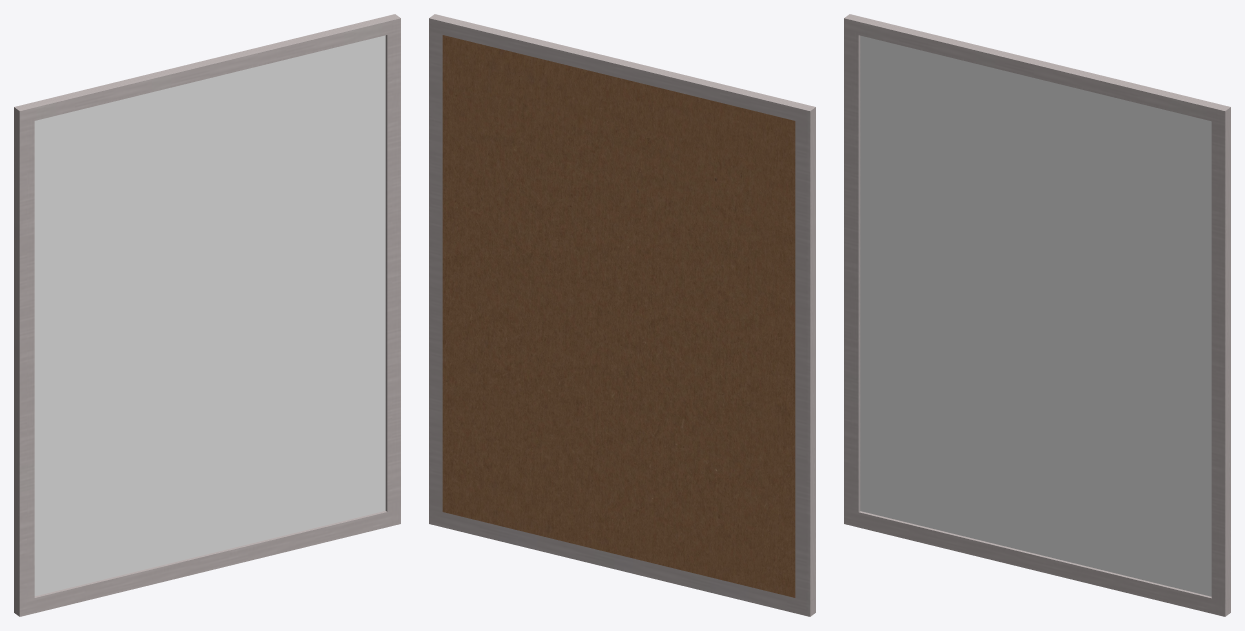
The model's file is stuff_in_my_room_whiteboard.glb.
The picture shows the model from 3 angles, left to right: view 1: azimuth 30°, elevation 25°; view 2: azimuth 150°, elevation 25°; view 3: azimuth 330°, elevation 25°; orthographic projection.
Parts seen in each view (by area): view 1: polySurface2, frame; view 2: back, frame; view 3: polySurface2, frame.
Boxes of the visible parts, left/top/right/bottom form: polySurface2: left=34, top=35, right=385, bottom=596; frame: left=14, top=14, right=400, bottom=616; back: left=442, top=35, right=795, bottom=597; frame: left=429, top=14, right=815, bottom=616; polySurface2: left=860, top=35, right=1211, bottom=596; frame: left=844, top=14, right=1230, bottom=616.
Bounding box in the file's own units: 17.55 × 22.25 × 0.4621.
3 materials, 3 textured.
